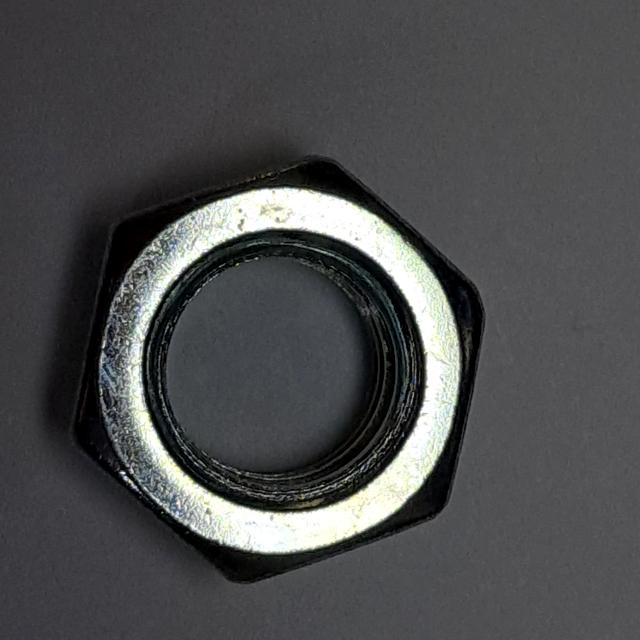Excellent: (51, 137, 494, 600)
